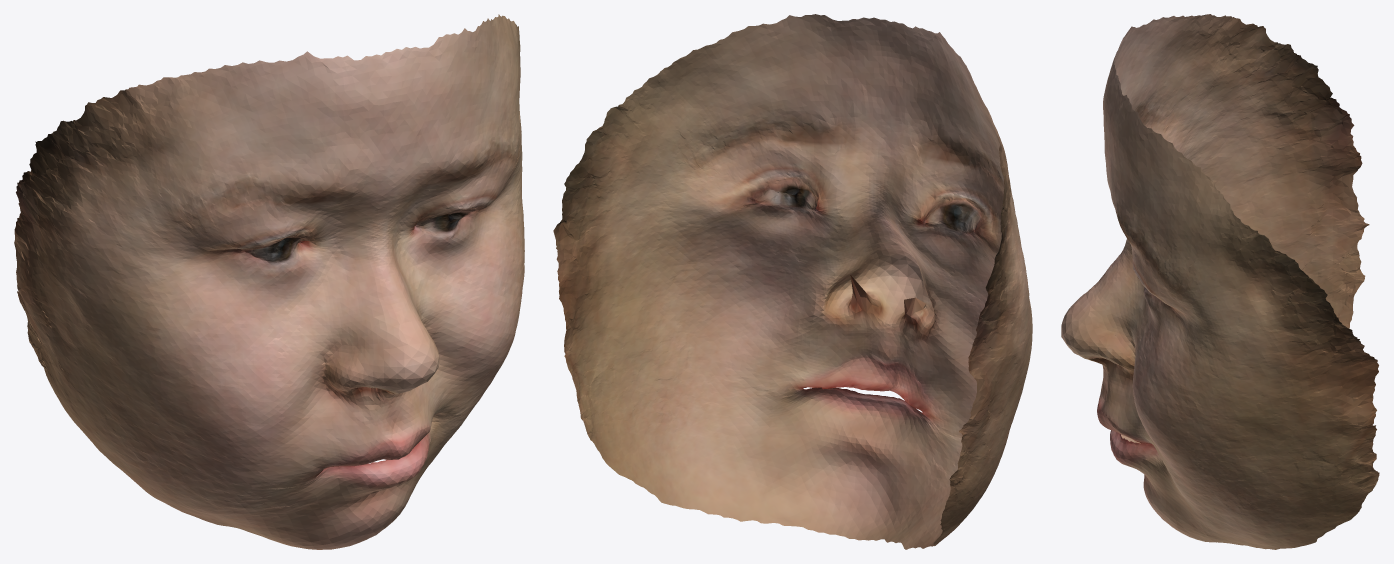
The picture shows the model from 3 angles, left to right: view 1: azimuth 30°, elevation 25°; view 2: azimuth 150°, elevation 25°; view 3: azimuth 270°, elevation 25°; orthographic projection. The views are drawn at different scales.
Bounding box in the file's own units: 1.54 × 1.7 × 1.03.
